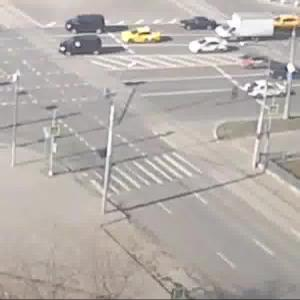car: (222, 8, 274, 44), (115, 26, 164, 46), (60, 37, 105, 57), (65, 15, 108, 35), (234, 51, 277, 70), (267, 12, 300, 33), (250, 83, 283, 100), (190, 40, 226, 55), (185, 18, 217, 34), (272, 64, 300, 78)
